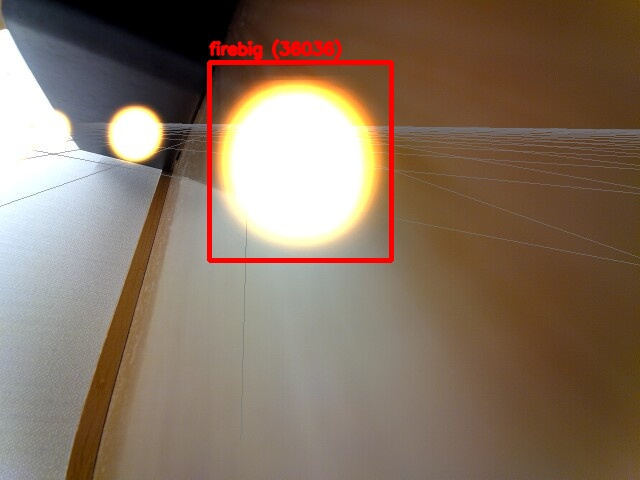firebig: (209, 62, 391, 260)
